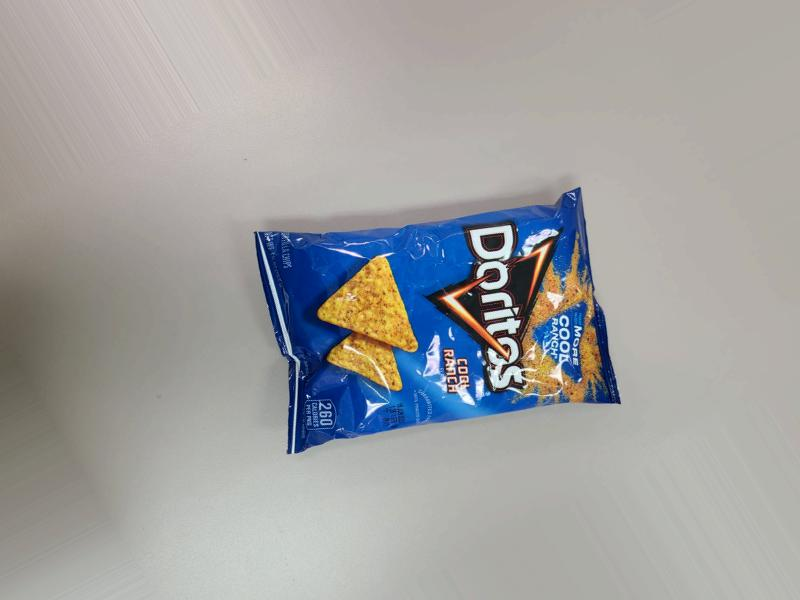doritos: (273, 166, 623, 458)
